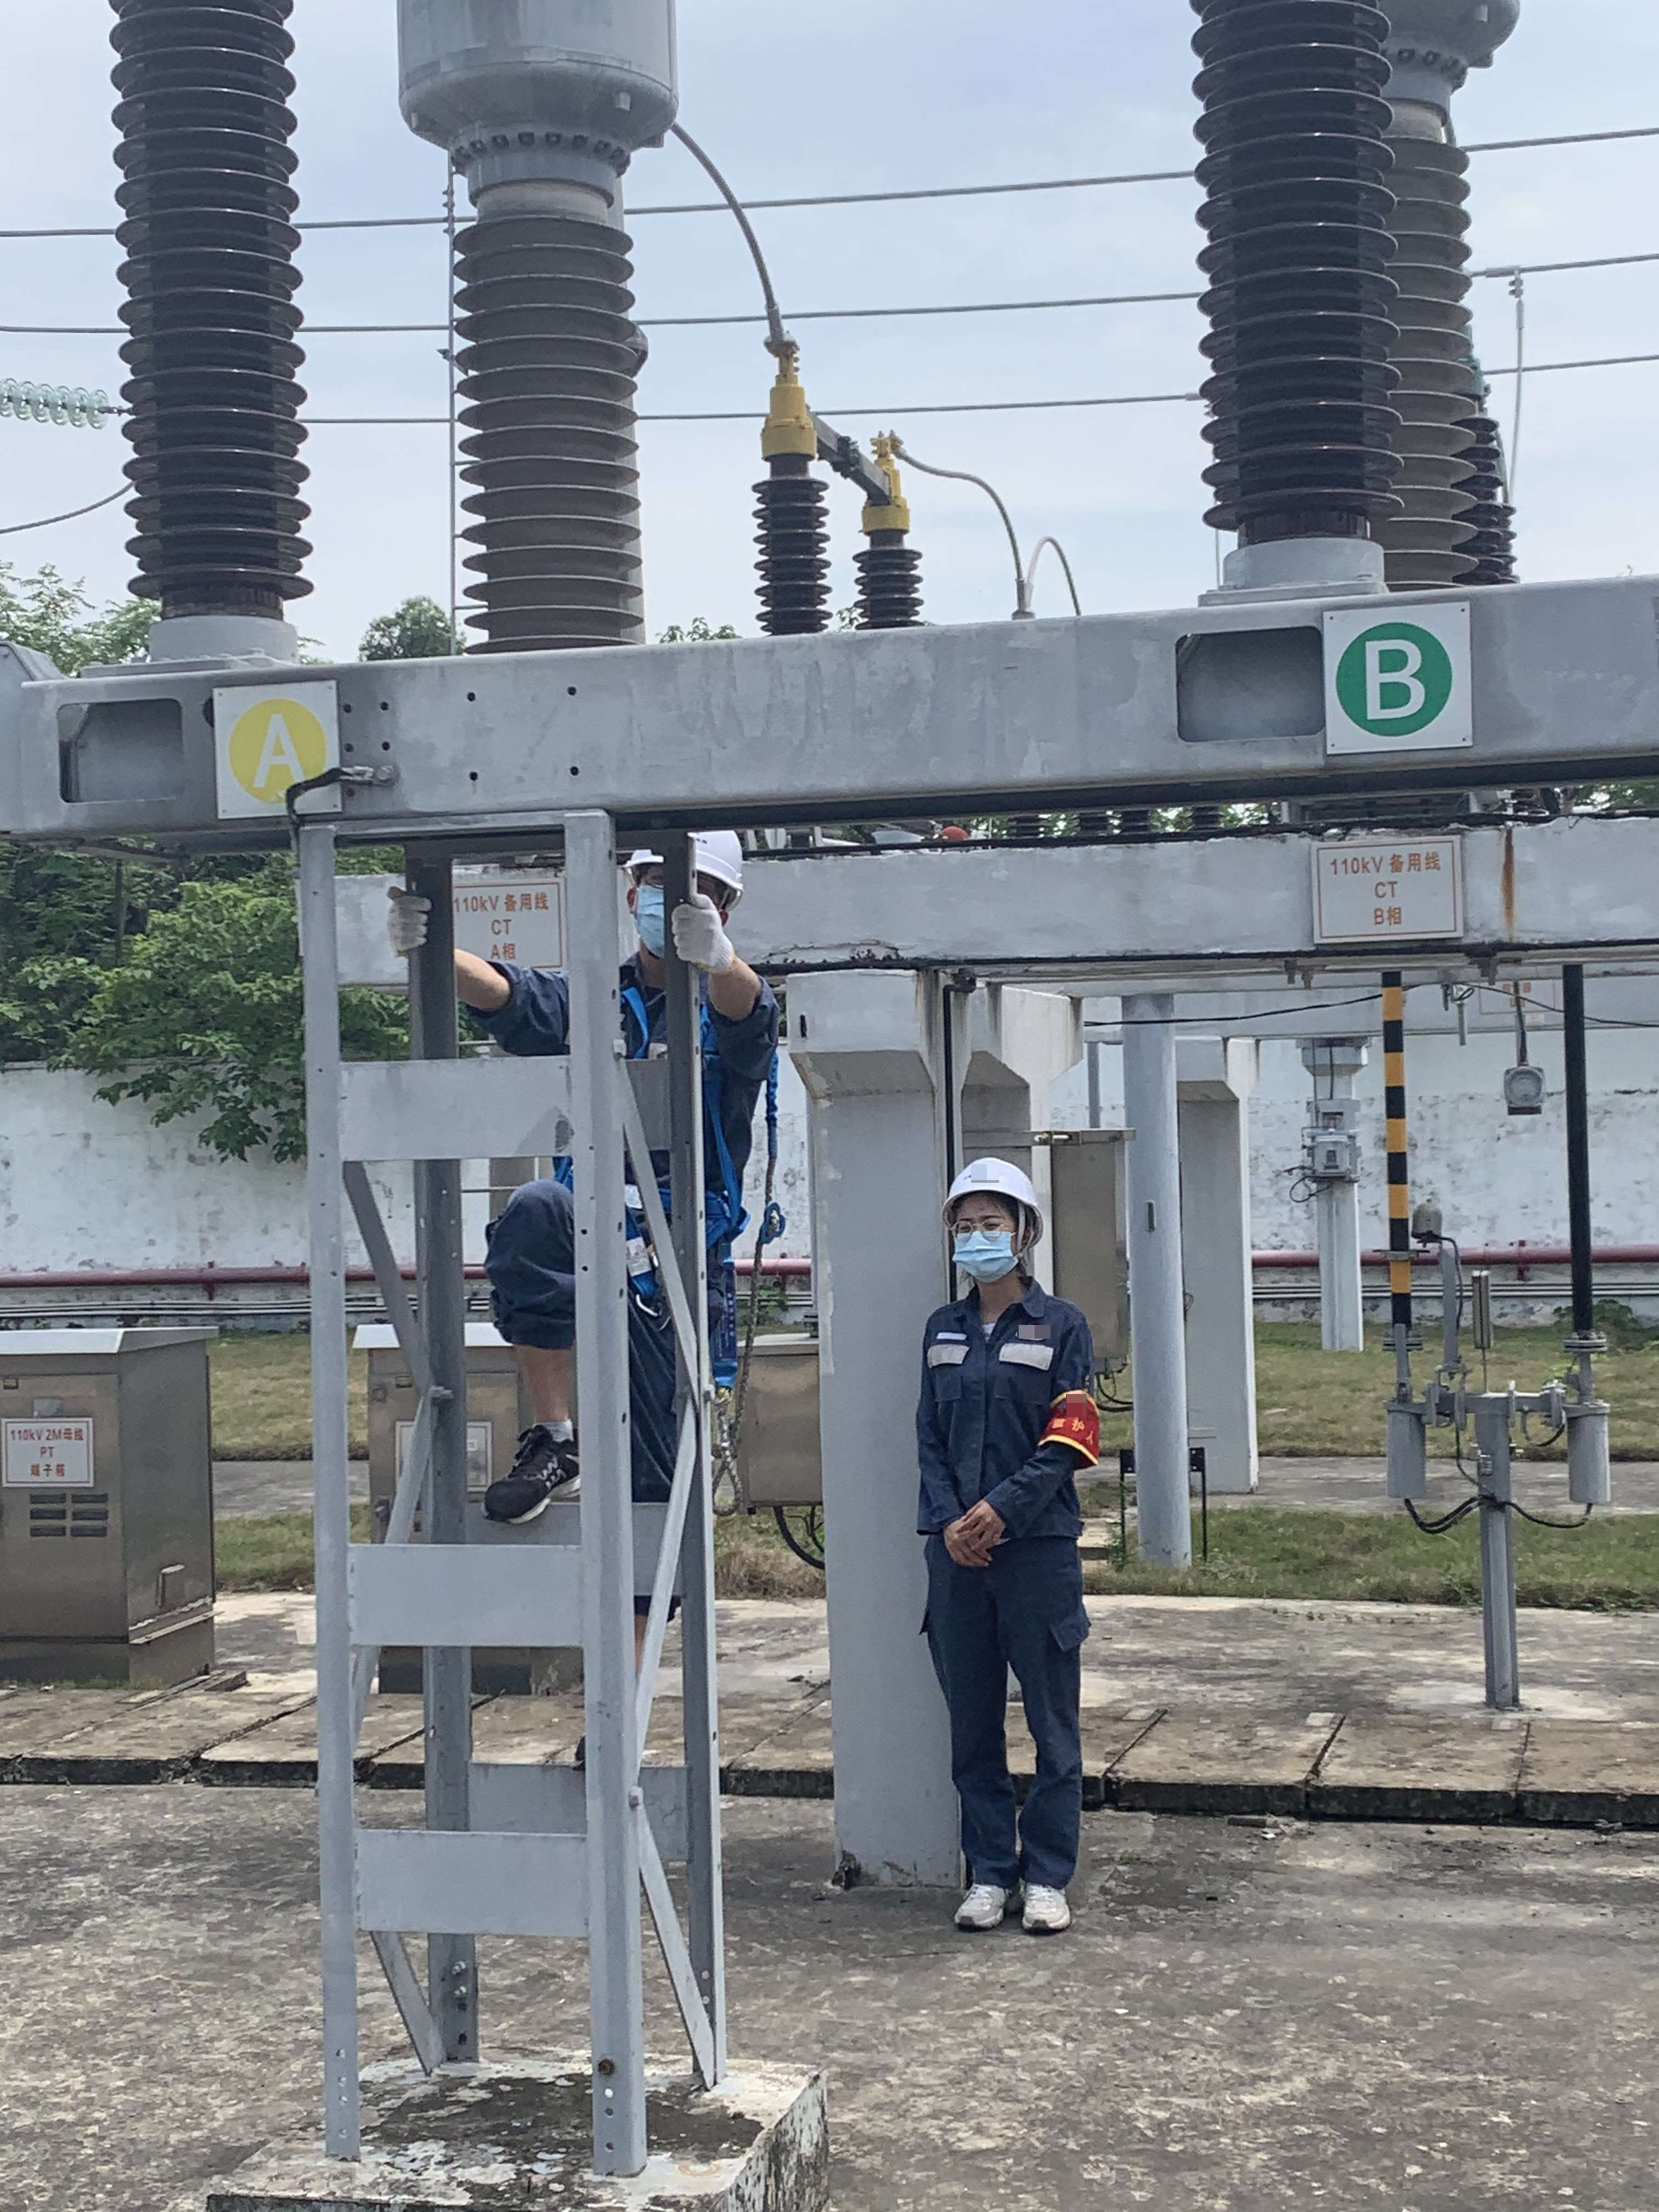downsuit: (922, 1561, 1084, 1898), (493, 1271, 739, 1486)
upsuit: (467, 934, 784, 1233), (904, 1271, 1107, 1534)
wrongbottom: (512, 1350, 587, 1442)
wrongtop: (432, 941, 516, 1022), (706, 948, 762, 1029)
